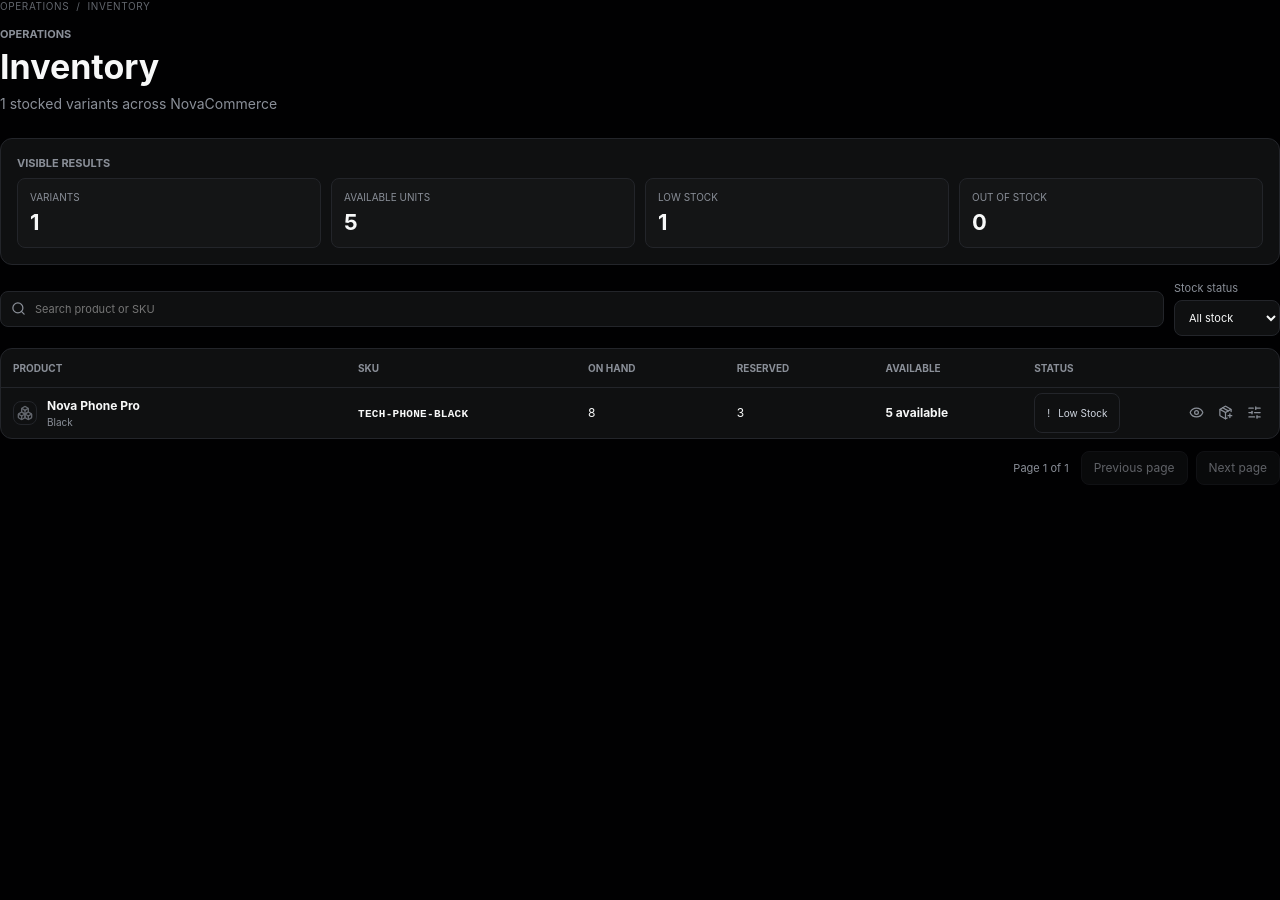
Test: InventoryPage › shows balances and opens movement history
Expected: the element named "Inventory summary" is shown, x1=0 y1=138 x2=1279 y2=265
Expected: the table named "Inventory stock levels" is shown, x1=1 y1=350 x2=1279 y2=438
Click the button named "view tech-phone-black". click: point(1196, 413)
box: x1=1183 y1=398 x2=1210 y2=428
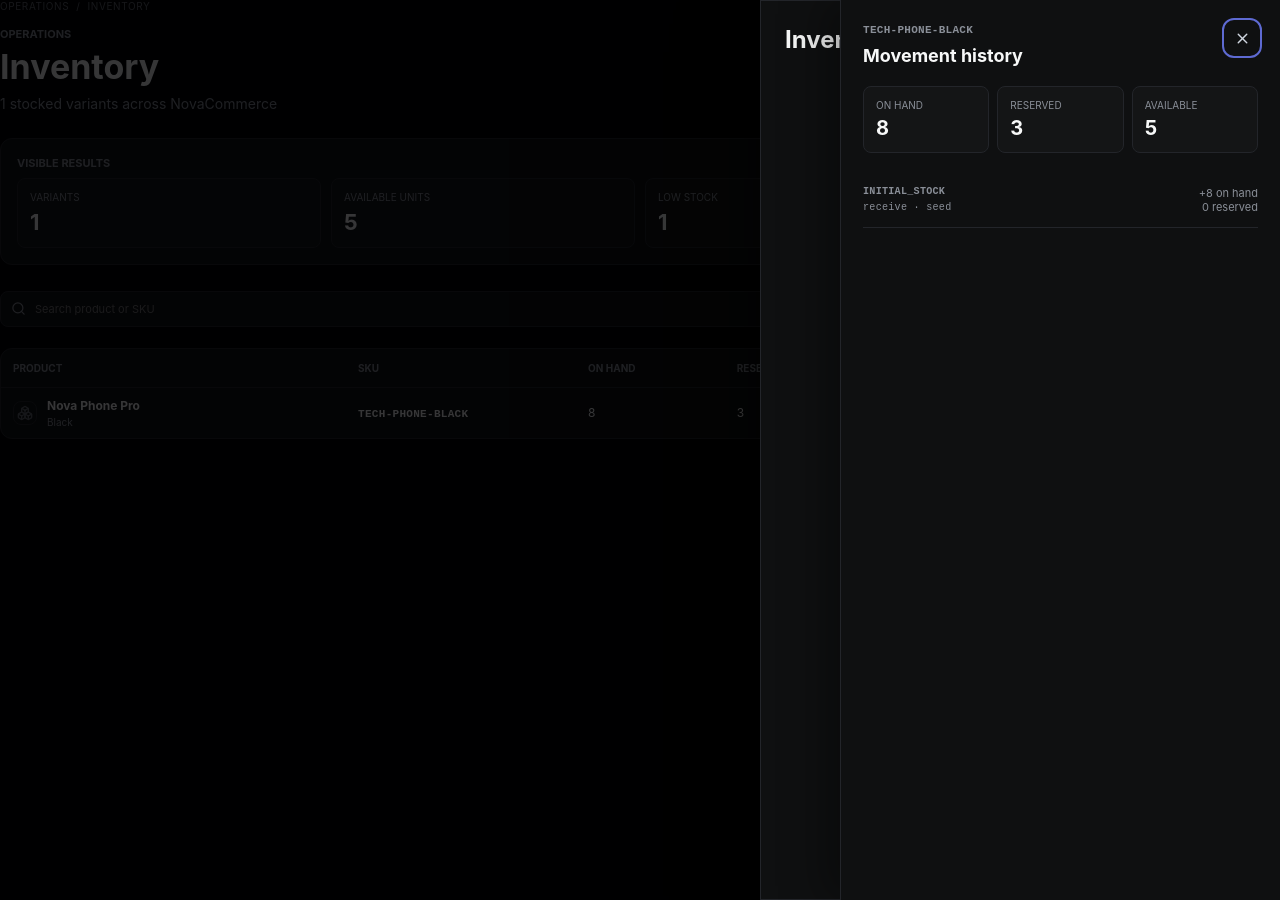
Expected: the heading "Movement history" is shown, x1=863 y1=45 x2=1023 y2=66
Expected: the text "INITIAL_STOCK" is shown, x1=863 y1=186 x2=952 y2=198
